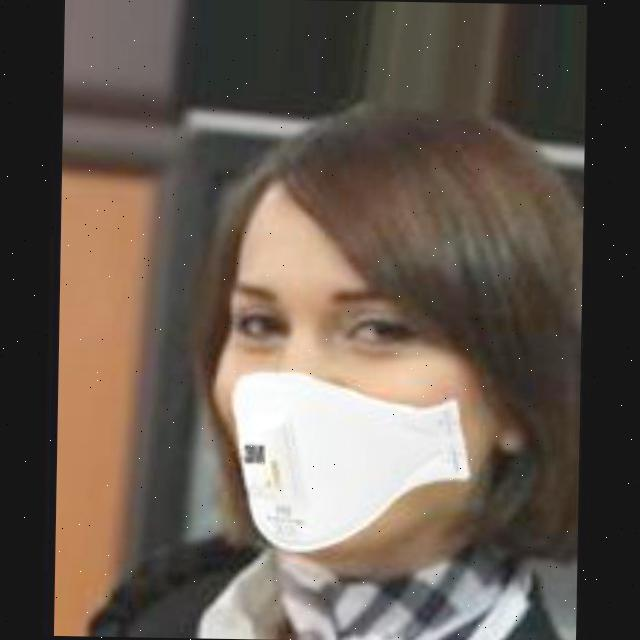suspicion: (179, 117, 530, 584)
